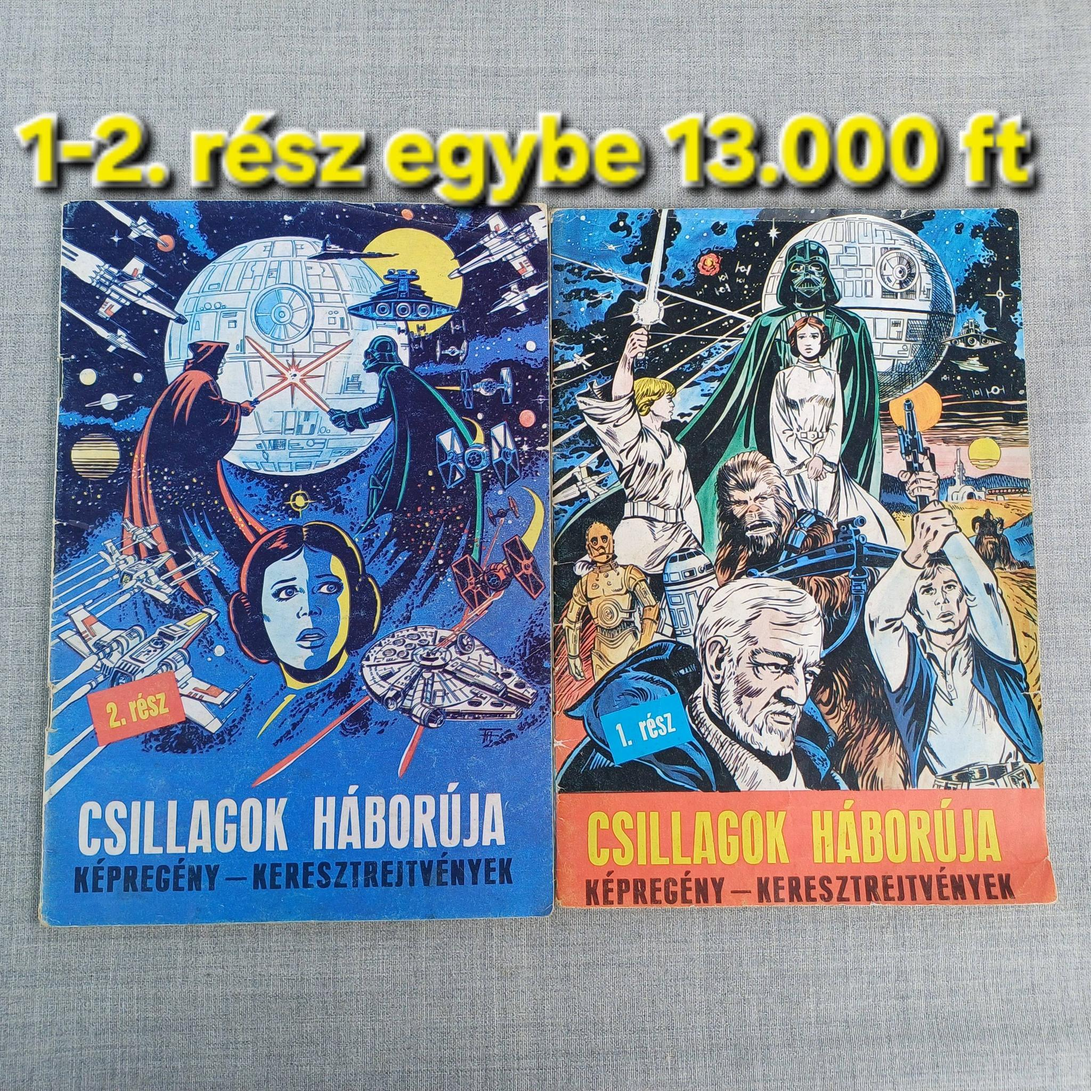comic: (41, 201, 553, 924), (547, 203, 1055, 909)
